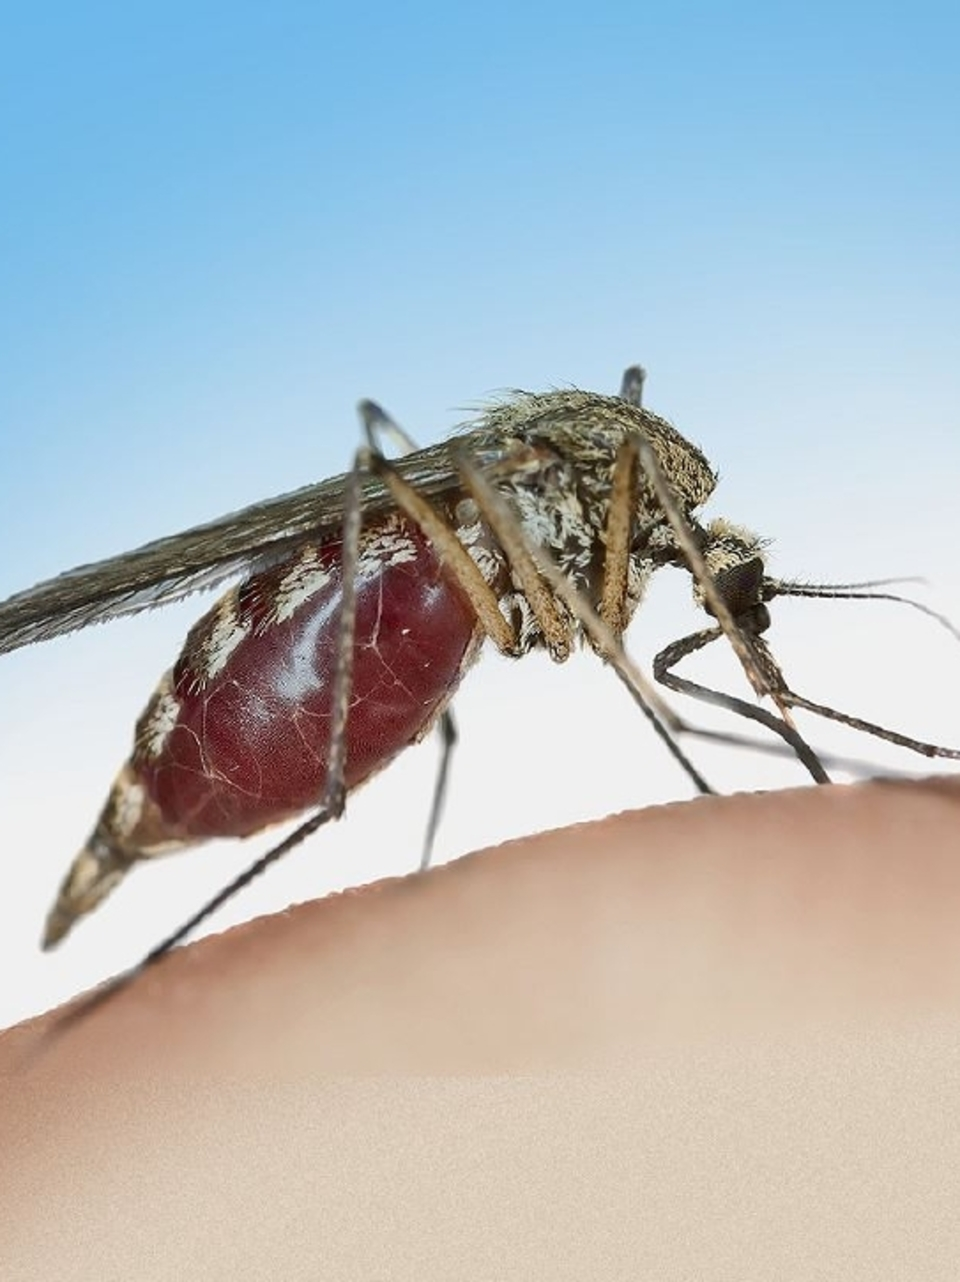dengue_mosquito: (1, 365, 956, 956)
